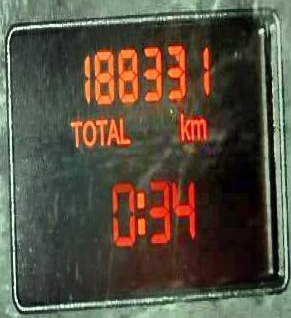0: (111, 180, 135, 247)
1: (82, 52, 91, 104), (202, 44, 209, 93)
3: (146, 177, 170, 244), (142, 46, 162, 101), (166, 44, 186, 97)
4: (171, 178, 195, 240)
8: (117, 47, 138, 102), (93, 49, 113, 104)
X: (136, 191, 145, 235), (82, 118, 96, 146), (94, 117, 107, 146), (189, 117, 206, 139), (69, 118, 82, 146), (106, 117, 119, 145), (118, 115, 130, 143), (179, 111, 190, 139)
